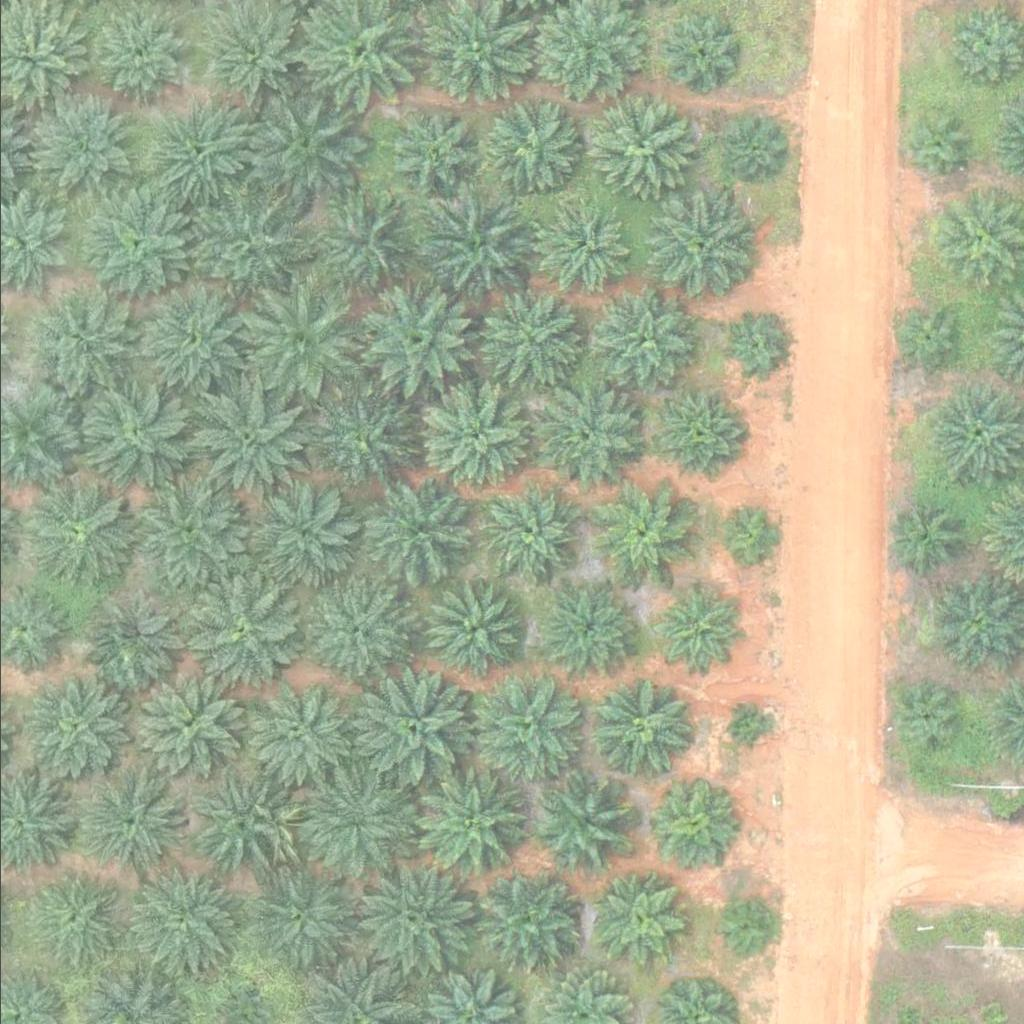Kelapa_Sawit: (239, 84, 365, 209), (419, 180, 545, 305), (300, 179, 426, 304), (184, 179, 310, 304), (350, 280, 476, 405), (232, 278, 358, 403), (184, 375, 310, 500), (346, 663, 472, 788), (289, 756, 415, 881), (347, 852, 473, 977), (70, 371, 196, 496), (130, 278, 256, 403), (73, 181, 199, 306), (408, 376, 533, 501), (177, 566, 302, 691), (128, 473, 253, 598), (15, 473, 140, 598), (410, 766, 524, 879), (469, 866, 583, 979), (243, 858, 356, 971), (126, 863, 239, 976), (476, 672, 589, 784), (240, 675, 353, 787), (191, 765, 304, 877), (12, 862, 125, 974), (78, 767, 191, 879), (592, 97, 693, 197), (477, 96, 578, 196), (651, 199, 752, 299), (530, 193, 631, 293), (594, 290, 695, 390), (482, 290, 583, 390), (537, 385, 638, 485), (310, 393, 411, 493), (590, 487, 691, 587), (475, 482, 576, 582), (361, 483, 462, 583), (257, 487, 358, 587), (538, 579, 639, 679), (422, 581, 523, 681), (306, 578, 407, 678), (134, 675, 235, 775), (20, 679, 121, 779), (83, 587, 184, 687), (31, 296, 132, 396), (382, 103, 482, 203), (594, 679, 694, 779), (536, 774, 636, 874), (151, 102, 251, 202), (30, 93, 130, 193), (651, 584, 739, 672), (596, 877, 684, 965), (654, 396, 742, 483), (642, 783, 730, 870), (888, 682, 964, 757), (896, 108, 972, 183), (662, 16, 737, 91), (883, 500, 958, 575), (889, 304, 964, 379), (720, 117, 783, 180), (722, 317, 785, 379), (721, 503, 784, 565), (709, 898, 772, 960), (726, 710, 764, 747)
